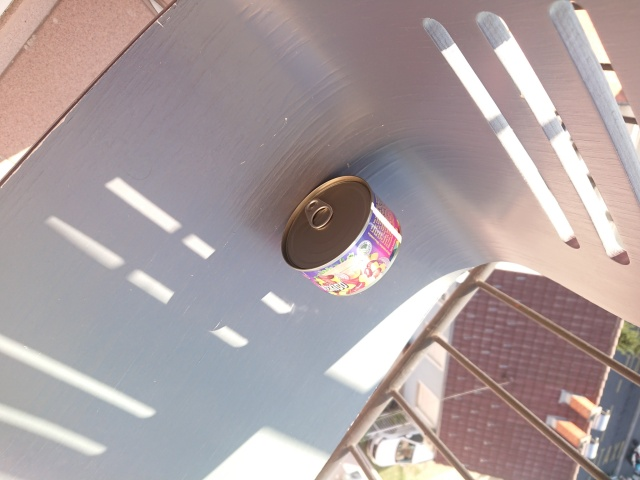Giana Tuna Salad Mexico 185g: (278, 174, 405, 301)
